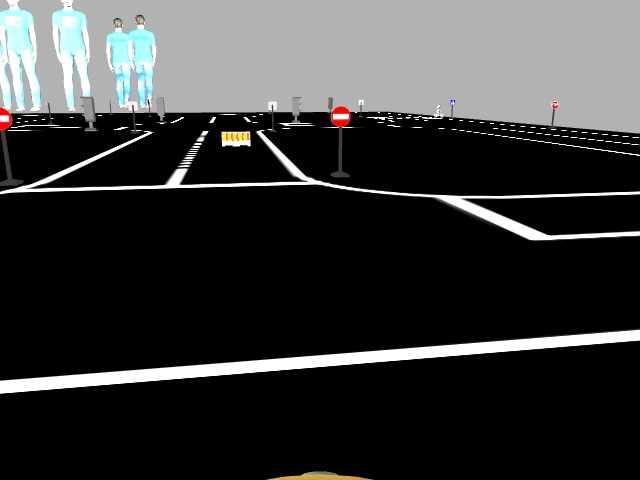ClosedRoadStand: (221, 133, 250, 147)
NoEntry: (330, 108, 350, 124), (0, 108, 14, 128)
